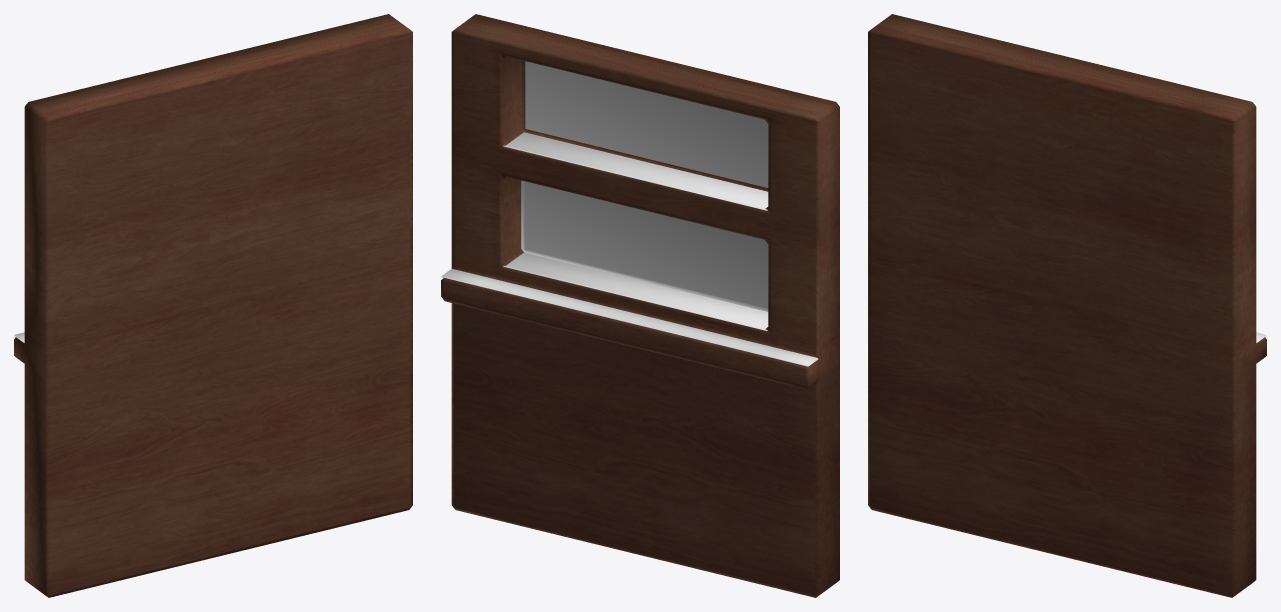
File: BarCupboard.fbx
3 views of the same model, side by side, from view 1: azimuth 30°, elevation 25°; view 2: azimuth 150°, elevation 25°; view 3: azimuth 330°, elevation 25° (orthographic).
Visible parts, largest first — view 1: Cupboard; view 2: Cupboard; view 3: Cupboard.
Boxes of the visible parts, left/top/right/bottom form: Cupboard: left=14, top=14, right=412, bottom=597; Cupboard: left=441, top=14, right=839, bottom=597; Cupboard: left=868, top=14, right=1266, bottom=597.
Bounding box in the file's own units: 2 × 2.5 × 0.3.
